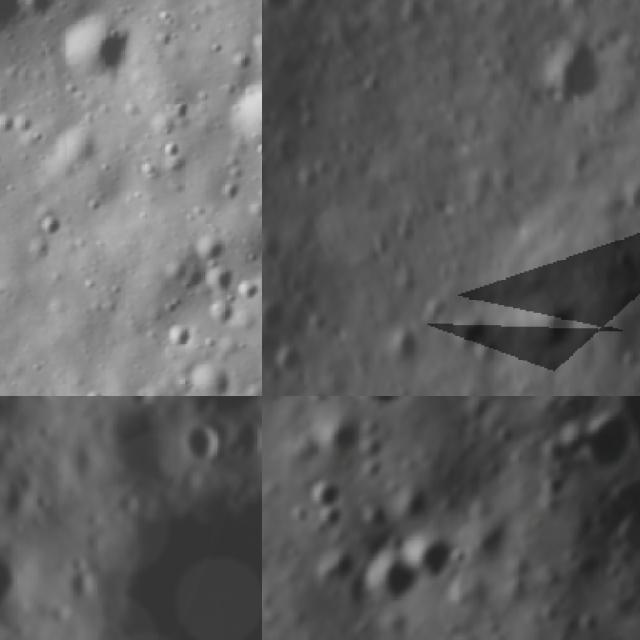crater: (33, 454, 262, 640), (529, 26, 609, 117), (563, 399, 640, 486), (61, 6, 141, 88), (0, 532, 49, 640), (512, 284, 580, 360), (401, 517, 472, 589), (591, 488, 640, 579), (364, 550, 424, 610), (181, 418, 233, 472), (302, 466, 354, 520), (319, 405, 370, 458), (184, 354, 245, 396), (227, 84, 262, 153), (376, 326, 423, 377), (451, 310, 496, 363), (340, 396, 437, 419), (225, 413, 262, 472), (271, 337, 315, 378), (201, 259, 238, 305), (262, 295, 296, 342), (206, 300, 246, 334), (34, 208, 72, 240), (164, 320, 198, 354), (618, 171, 640, 223), (439, 622, 496, 640), (561, 0, 605, 21), (36, 396, 90, 412), (262, 0, 299, 20), (262, 213, 267, 262)
